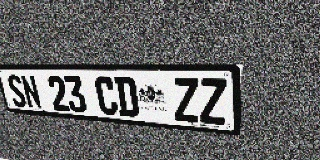2: (46, 75, 70, 112)
3: (63, 76, 87, 113)
C: (94, 76, 119, 116)
D: (114, 76, 139, 118)
N: (20, 75, 43, 109)
S: (6, 74, 28, 108)
Z: (199, 78, 227, 125), (173, 78, 200, 123)
